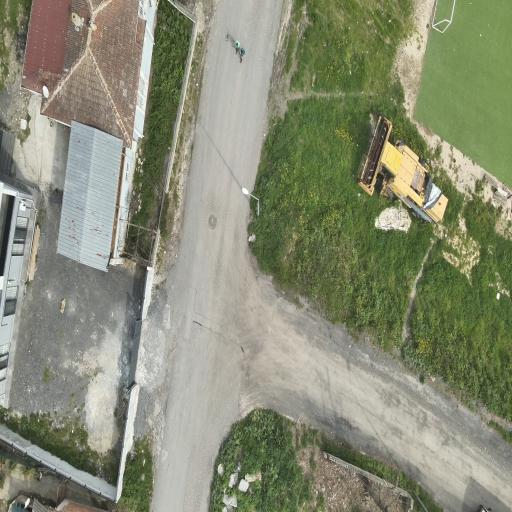harvester: (358, 115, 447, 222)
person: (240, 48, 245, 62), (236, 41, 240, 53)
